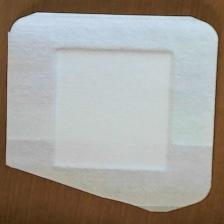Cut: (5, 12, 223, 216)
